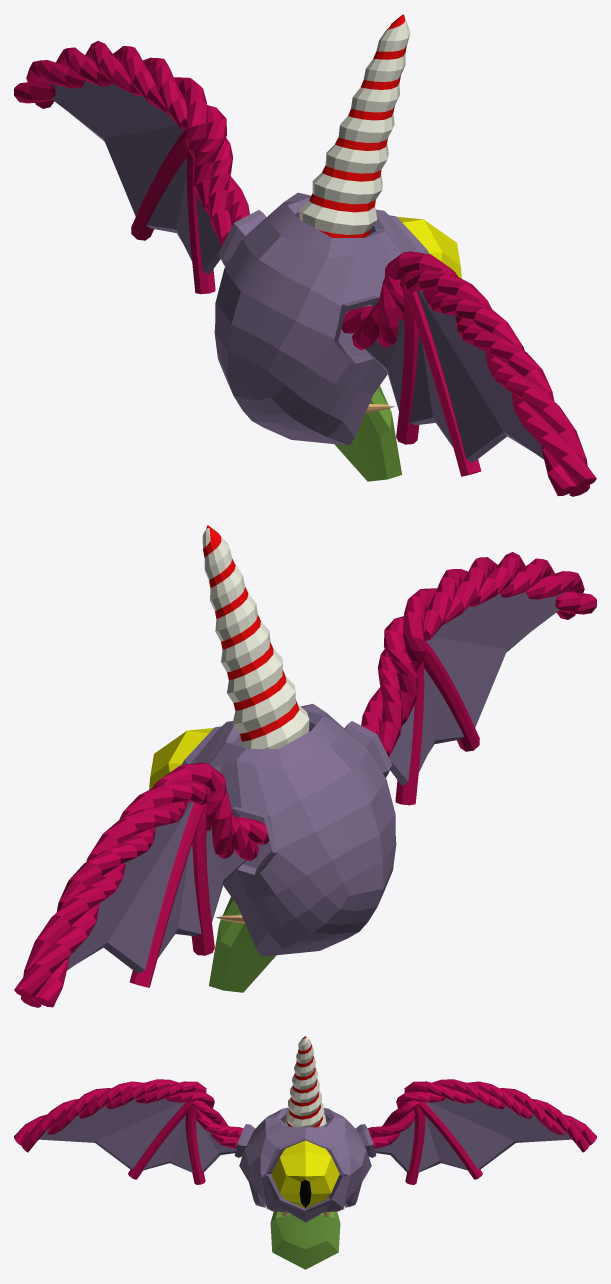
Rendered from oneEyedOneHornedFlyingPurplePeopleEater_mdl_v001.fbx.
The picture shows the model from 3 angles, top to bottom: view 1: azimuth 30°, elevation 25°; view 2: azimuth 150°, elevation 25°; view 3: azimuth 270°, elevation 25°; orthographic projection. The views are drawn at different scales.
Parts seen in each view (by area): view 1: body, membrane (×2), horn, twizzler03 (×2), twizzler02 (×2), twizzler01 (×2), twizzler05 (×2), twizzler04 (×2), eye; view 2: body, membrane (×2), horn, twizzler01 (×2), twizzler03 (×2), twizzler02 (×2), twizzler05 (×2), twizzler04 (×2), eye; view 3: membrane (×2), body, twizzler02 (×2), twizzler03 (×2), twizzler01 (×2), eye, horn, twizzler05 (×2), twizzler04 (×2).
Boxes of the visible parts, left/top/right/bottom form: body: left=214, top=192, right=429, bottom=481; membrane (×2): left=43, top=80, right=543, bottom=462; horn: left=299, top=14, right=410, bottom=237; twizzler03 (×2): left=14, top=41, right=596, bottom=487; twizzler02 (×2): left=35, top=47, right=576, bottom=495; twizzler01 (×2): left=26, top=46, right=589, bottom=496; twizzler05 (×2): left=131, top=129, right=481, bottom=476; twizzler04 (×2): left=186, top=149, right=419, bottom=444; eye: left=397, top=216, right=461, bottom=278; body: left=181, top=704, right=396, bottom=992; membrane (×2): left=67, top=591, right=563, bottom=973; horn: left=202, top=525, right=309, bottom=748; twizzler01 (×2): left=14, top=558, right=575, bottom=998; twizzler03 (×2): left=34, top=557, right=584, bottom=1007; twizzler02 (×2): left=21, top=552, right=596, bottom=1007; twizzler05 (×2): left=129, top=640, right=479, bottom=987; twizzler04 (×2): left=191, top=660, right=424, bottom=955; eye: left=149, top=728, right=213, bottom=789; membrane (×2): left=39, top=1097, right=571, bottom=1172; body: left=234, top=1107, right=376, bottom=1269; twizzler02 (×2): left=46, top=1079, right=589, bottom=1152; twizzler03 (×2): left=14, top=1081, right=564, bottom=1148; twizzler01 (×2): left=21, top=1079, right=596, bottom=1152; eye: left=271, top=1140, right=339, bottom=1208; horn: left=284, top=1036, right=326, bottom=1127; twizzler05 (×2): left=128, top=1101, right=482, bottom=1179; twizzler04 (×2): left=185, top=1105, right=425, bottom=1184.
Size of the model in its own units: 15.7 by 30.02 by 65.96.
